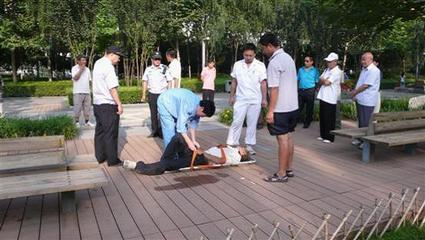fall: (120, 132, 255, 177)
